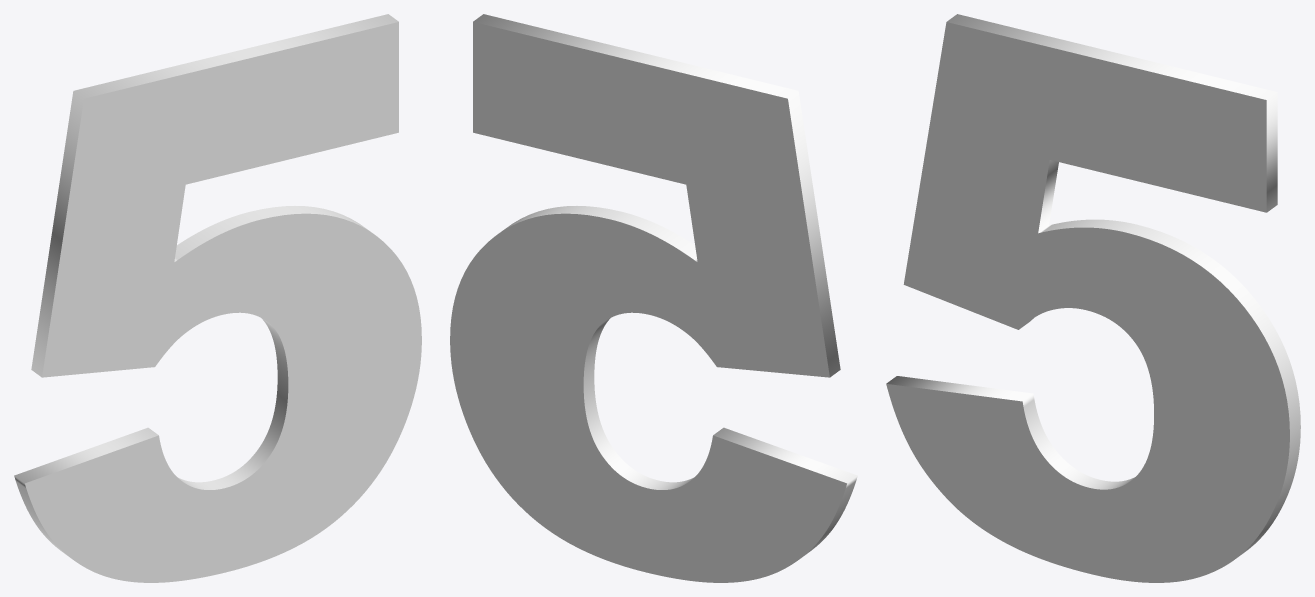
The picture shows the model from 3 angles, left to right: view 1: azimuth 30°, elevation 25°; view 2: azimuth 150°, elevation 25°; view 3: azimuth 330°, elevation 25°; orthographic projection.
Visible parts, largest first — view 1: テキスト; view 2: テキスト; view 3: テキスト.
Part boxes in pixels (x1,y1,x2,y2): テキスト: [14, 14, 421, 582]; テキスト: [450, 14, 857, 582]; テキスト: [886, 14, 1300, 582].
Size of the model in its own units: 0.4282 by 0.5237 by 0.02.
